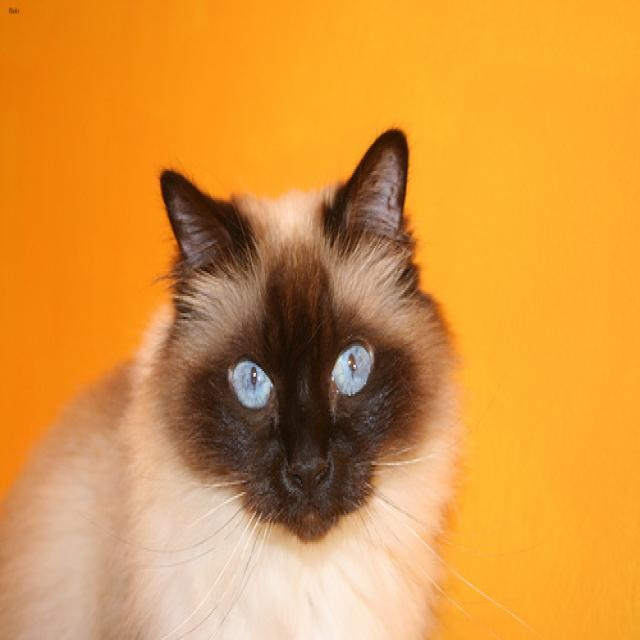Birman: (148, 124, 438, 569)
